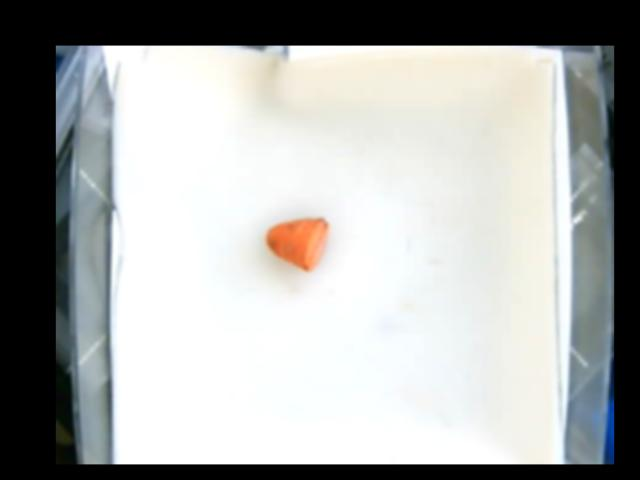Carrot: (264, 218, 328, 270)
